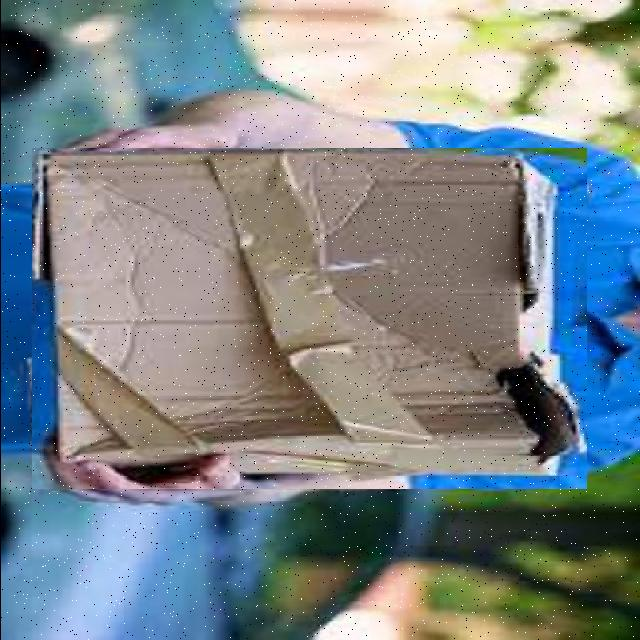defect: (31, 148, 586, 489)
